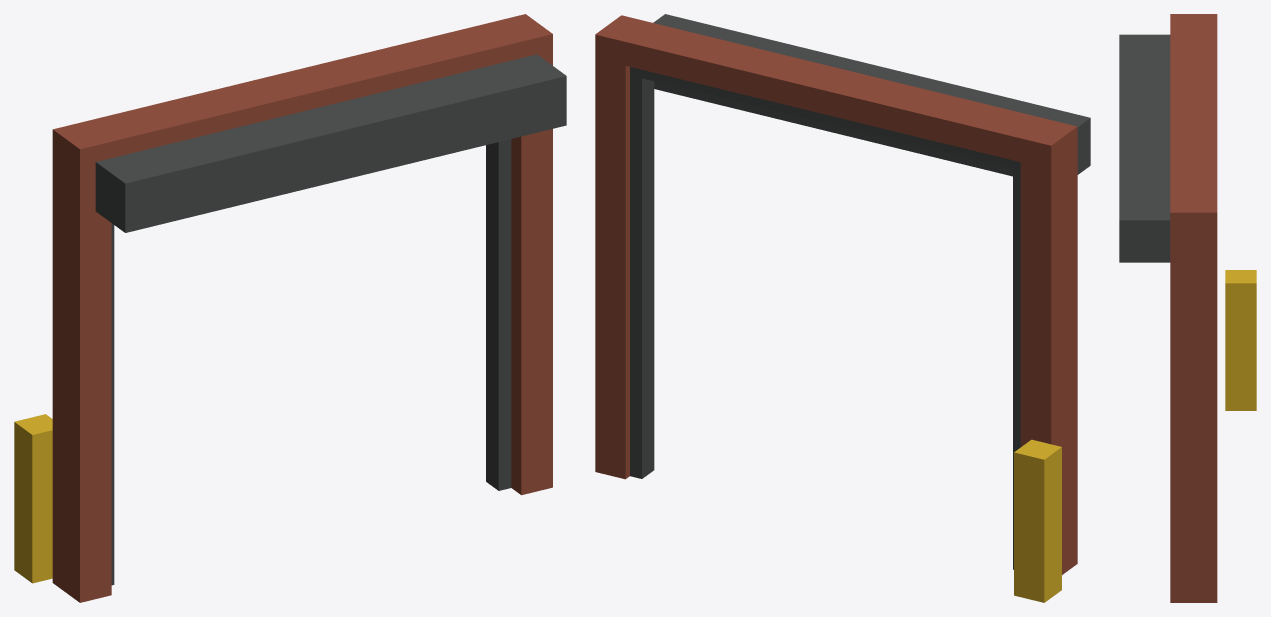
File: Kit_brick_bigdoor.fbx
The picture shows the model from 3 angles, left to right: view 1: azimuth 30°, elevation 25°; view 2: azimuth 150°, elevation 25°; view 3: azimuth 270°, elevation 25°; orthographic projection. The views are drawn at different scales.
Visible parts, largest first — view 1: ShutterBox, WallJambL, WallAbove, WallJambR, FrameR, Bollard, FrameL; view 2: WallJambL, WallAbove, WallJambR, FrameR, ShutterBox, Bollard, FrameTop, FrameL; view 3: WallJambR, ShutterBox, WallAbove, Bollard, WallJambL.
Boxes of the visible parts, left/top/right/bottom form: ShutterBox: left=95, top=54, right=566, bottom=232; WallJambL: left=52, top=122, right=111, bottom=602; WallAbove: left=84, top=22, right=521, bottom=157; WallJambR: left=494, top=14, right=552, bottom=495; FrameR: left=486, top=139, right=511, bottom=490; Bollard: left=14, top=414, right=52, bottom=583; FrameL: left=111, top=223, right=114, bottom=585; WallJambL: left=1020, top=119, right=1077, bottom=574; WallAbove: left=625, top=22, right=1046, bottom=161; WallJambR: left=595, top=15, right=651, bottom=479; FrameR: left=630, top=69, right=654, bottom=478; ShutterBox: left=653, top=14, right=1090, bottom=176; Bollard: left=1014, top=439, right=1061, bottom=602; FrameTop: left=630, top=67, right=1020, bottom=170; FrameL: left=1013, top=161, right=1020, bottom=569; WallJambR: left=1170, top=199, right=1217, bottom=602; ShutterBox: left=1119, top=34, right=1170, bottom=262; WallAbove: left=1170, top=27, right=1217, bottom=199; Bollard: left=1225, top=270, right=1256, bottom=410; WallJambL: left=1170, top=14, right=1217, bottom=27.
Bounding box in the file's own units: 310 × 87.5 × 275.
